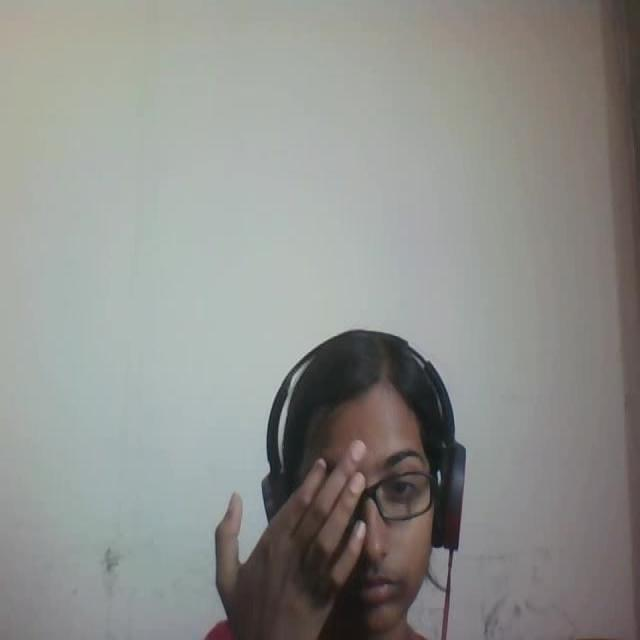Bored: (256, 298, 467, 640)
